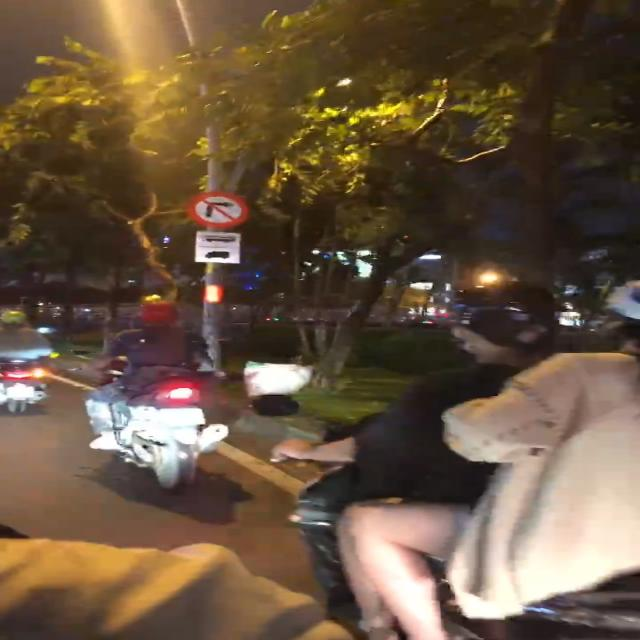Bien bao cam re phai: (192, 188, 248, 228)
